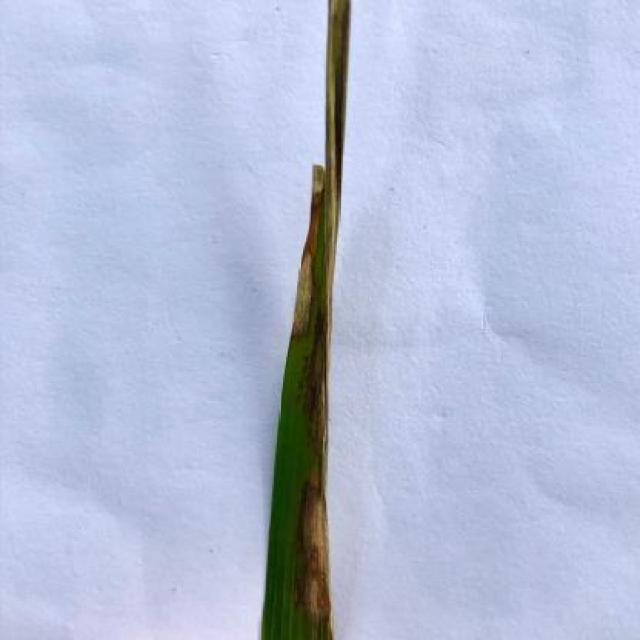Brown_Spot: (258, 0, 358, 640)
